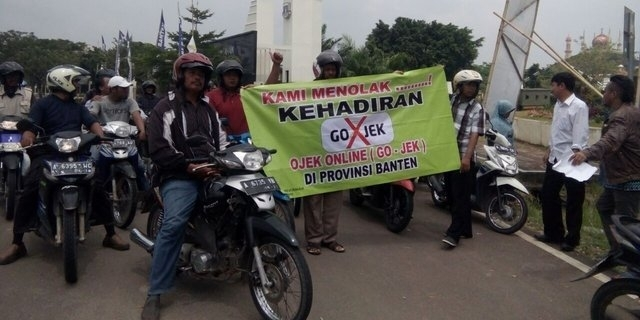plate: (50, 161, 92, 177), (242, 178, 279, 195), (114, 139, 135, 149), (496, 145, 516, 155)
